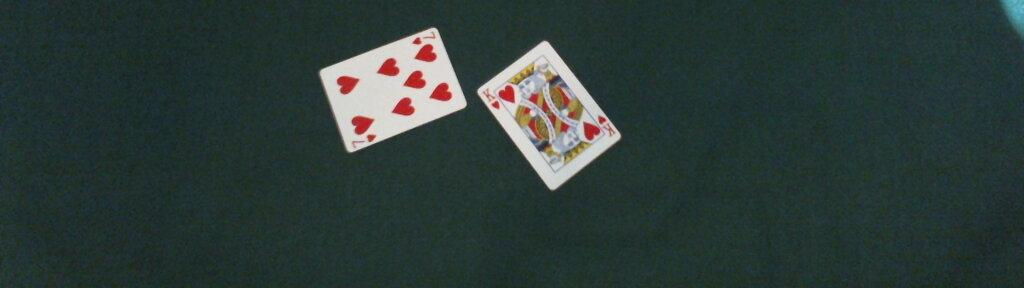king: (477, 40, 622, 190)
seven: (318, 26, 467, 152)
